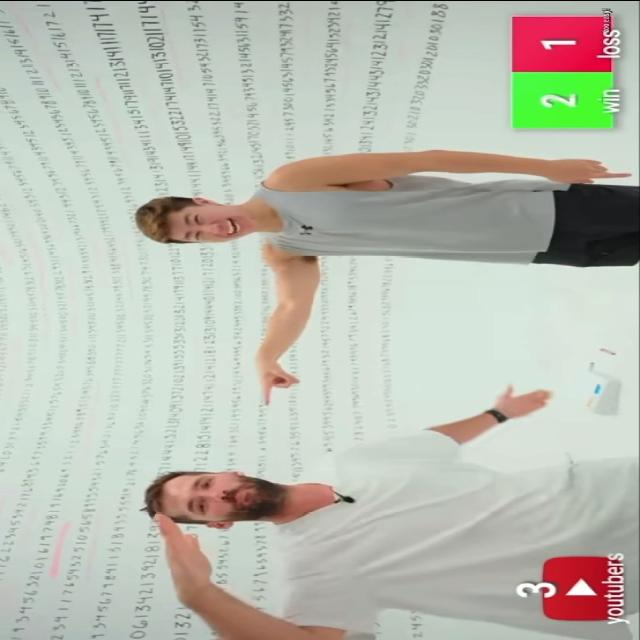Paper: (152, 511, 214, 599)
